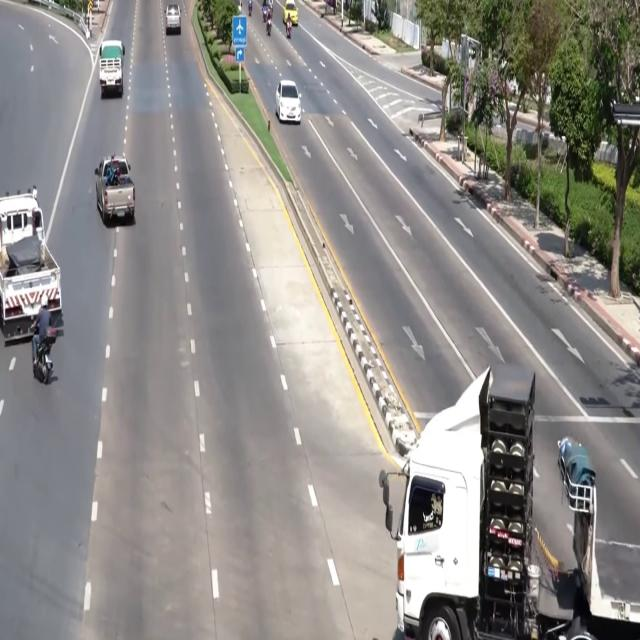car: (276, 80, 301, 123), (165, 4, 180, 34), (283, 0, 298, 25)
scooty: (33, 328, 56, 384), (266, 18, 272, 36), (286, 21, 292, 39), (248, 0, 252, 16), (262, 6, 266, 22)
truck: (379, 365, 639, 639), (0, 187, 62, 343), (95, 156, 135, 223), (99, 40, 124, 97)
